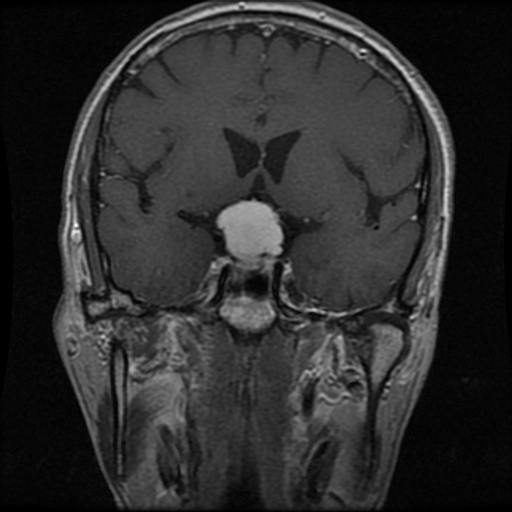meningioma: (216, 201, 282, 262)
